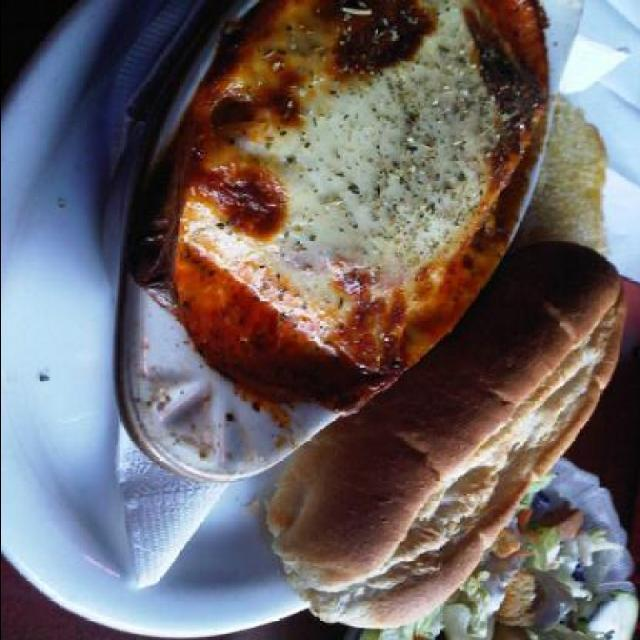Lasagna: (123, 2, 555, 320)
